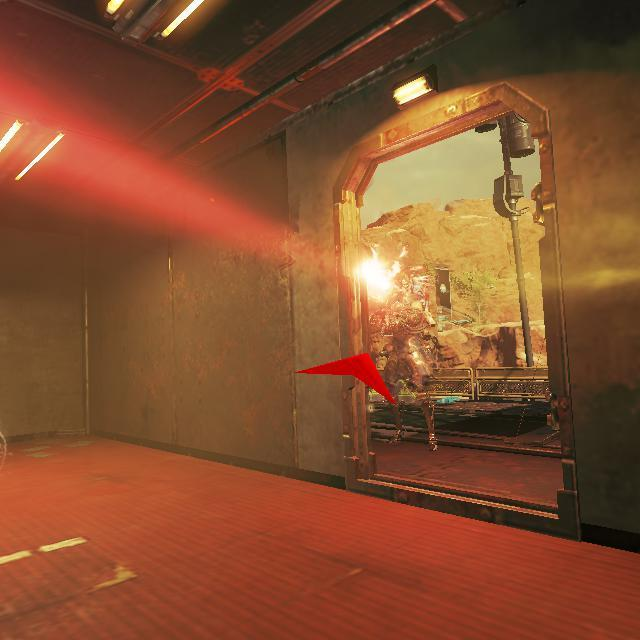avatar: (369, 267, 441, 454)
